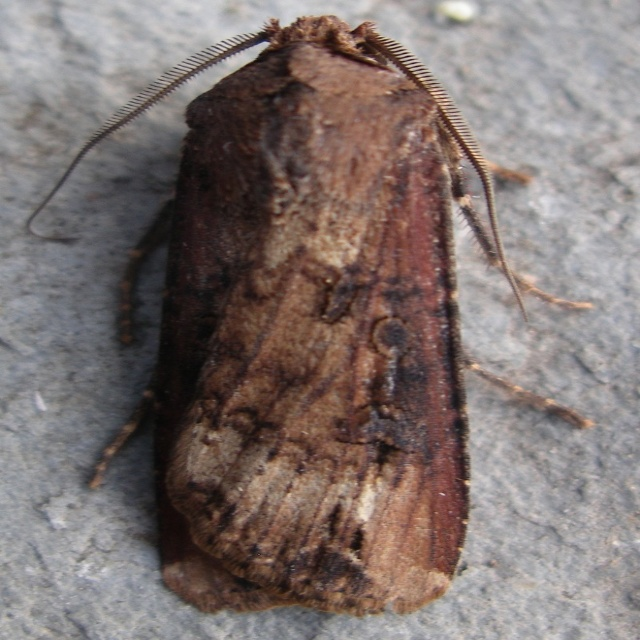Moths and butterflies: (18, 15, 598, 617)
